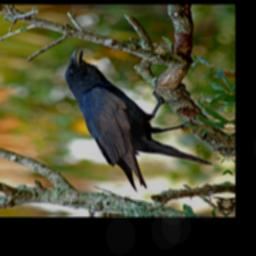Crow: (60, 48, 219, 194)
